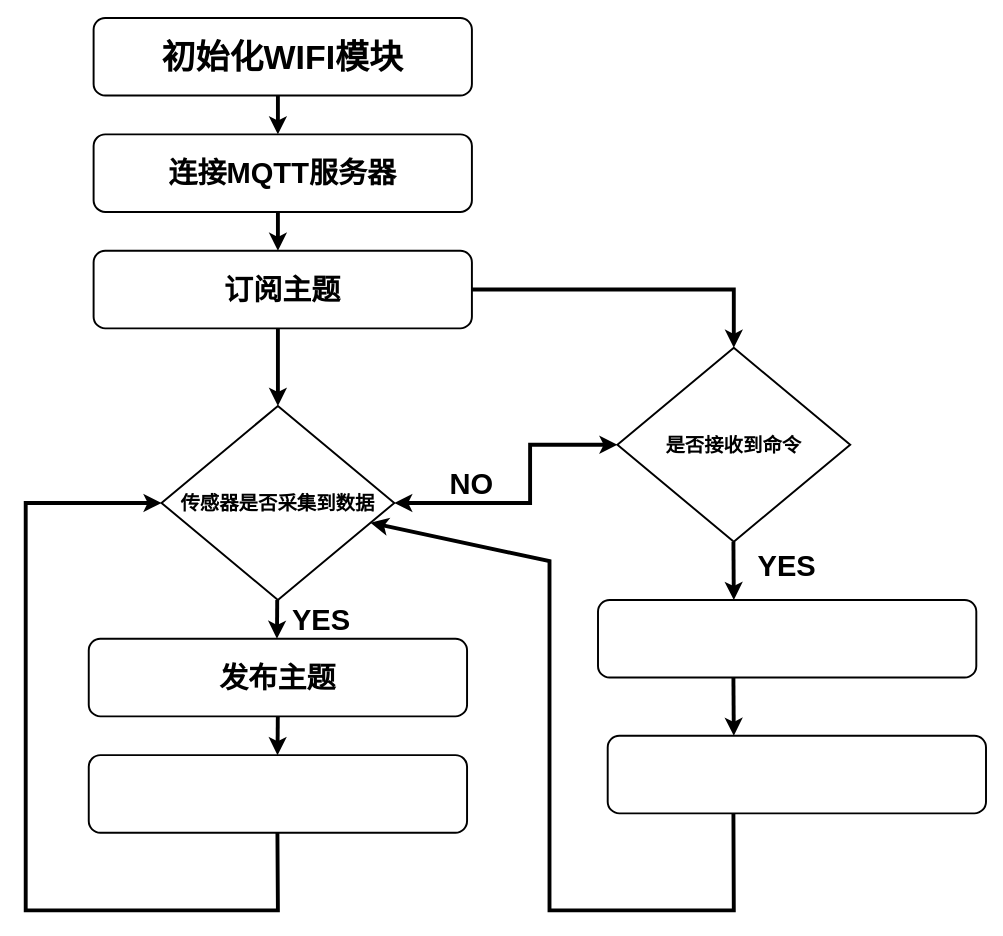
This 1003x936 diagram has some shape labels left out. The centre of each missing label's shape, as x and y in pixels:
执行操作: pixel 796 774
构造消息，并发送: pixel 277 793
解析命令: pixel 787 638
